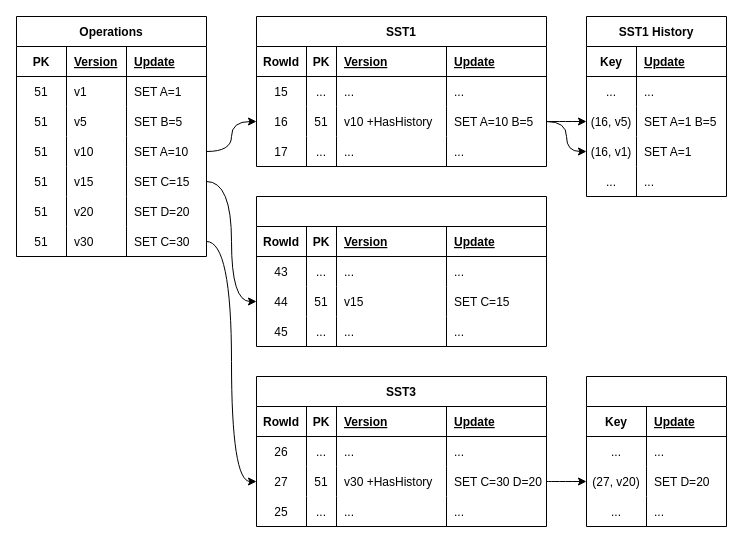
Some shapes in this 743 by 543 pixel diagram are drawn without their labels. Each missing label, with the box of its shape:
SST2: (256, 196, 546, 346)
SST3 History: (586, 376, 726, 526)
